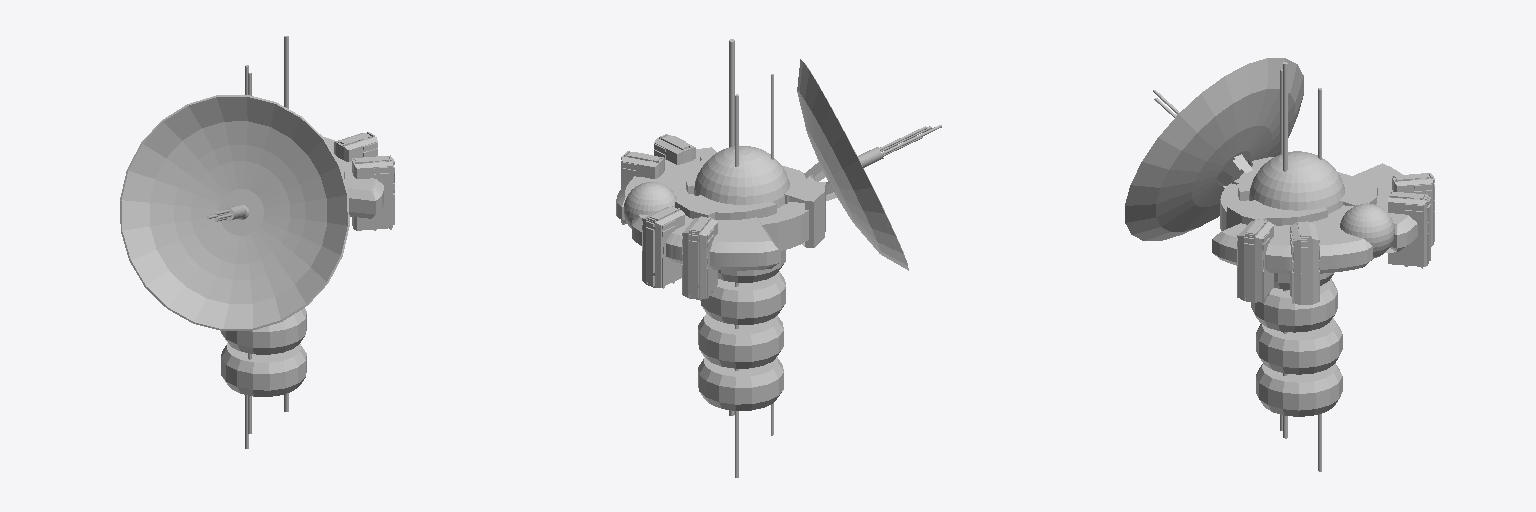
Rendered from Pirate Radar Station model.obj.
3 views of the same model, side by side, from view 1: azimuth 30°, elevation 25°; view 2: azimuth 150°, elevation 25°; view 3: azimuth 270°, elevation 25° (orthographic).
Bounding box in the file's own units: 655 × 997 × 669.